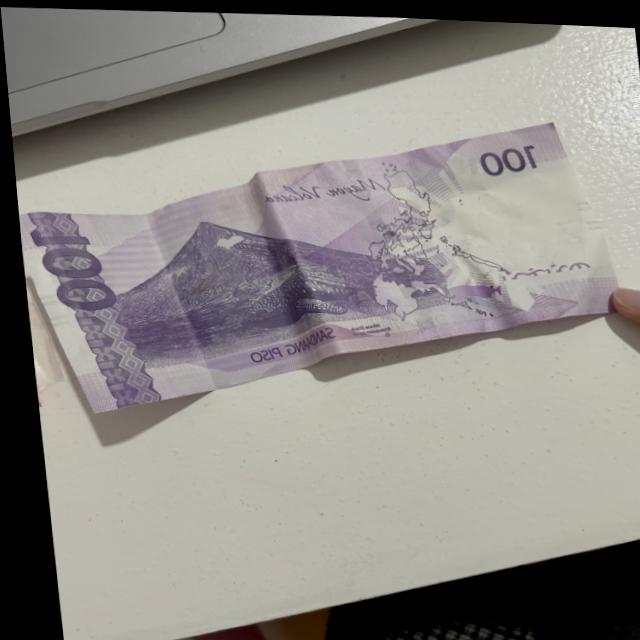100_whale: (221, 262, 377, 338)
100_whale_watermark: (433, 274, 495, 304)
value_watermark: (544, 212, 580, 243)
